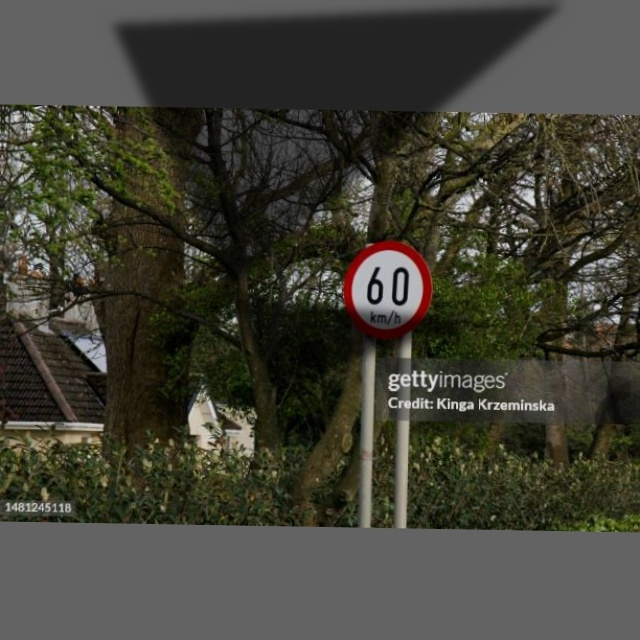Speed_Limit_60: (338, 239, 431, 344)
